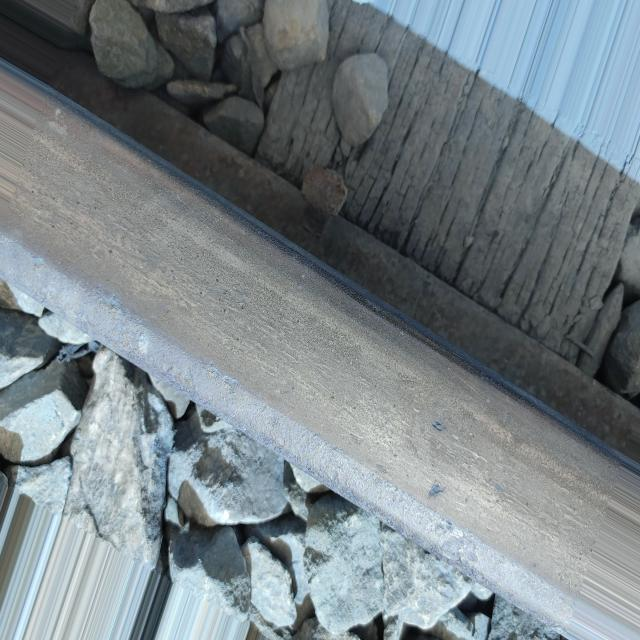non-defective: (2, 53, 636, 636)
